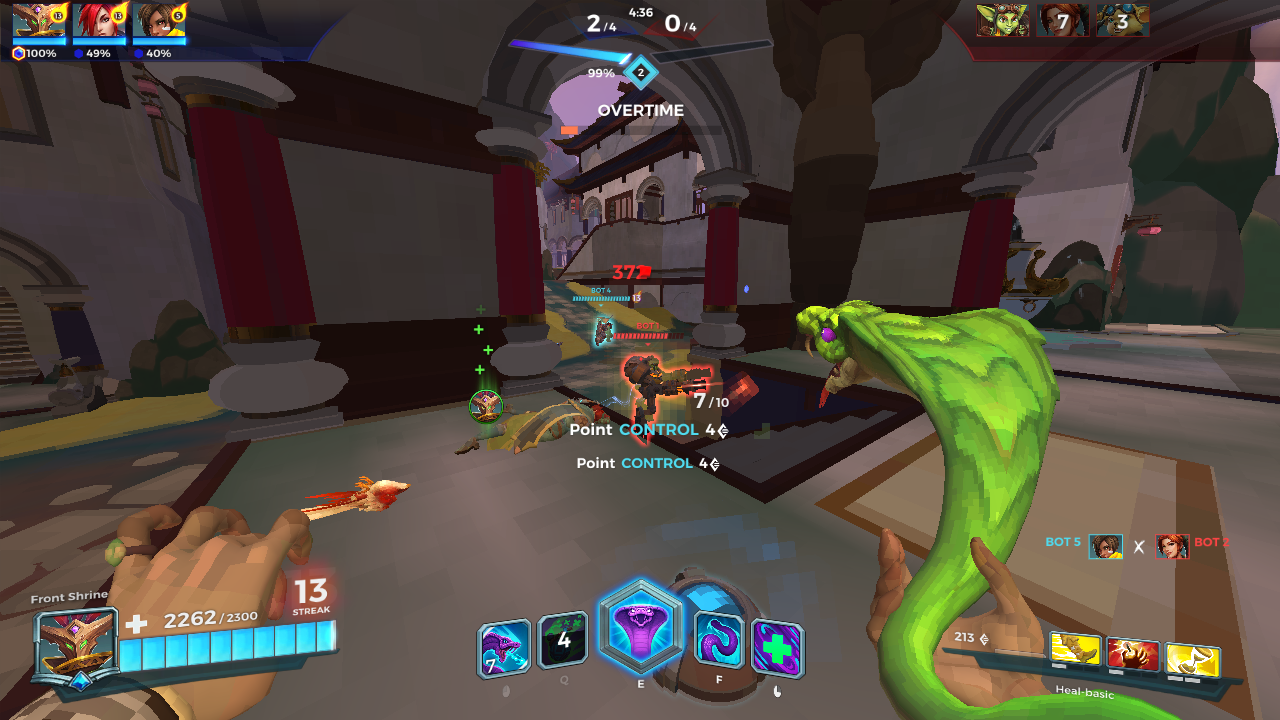model: (622, 345, 690, 442)
